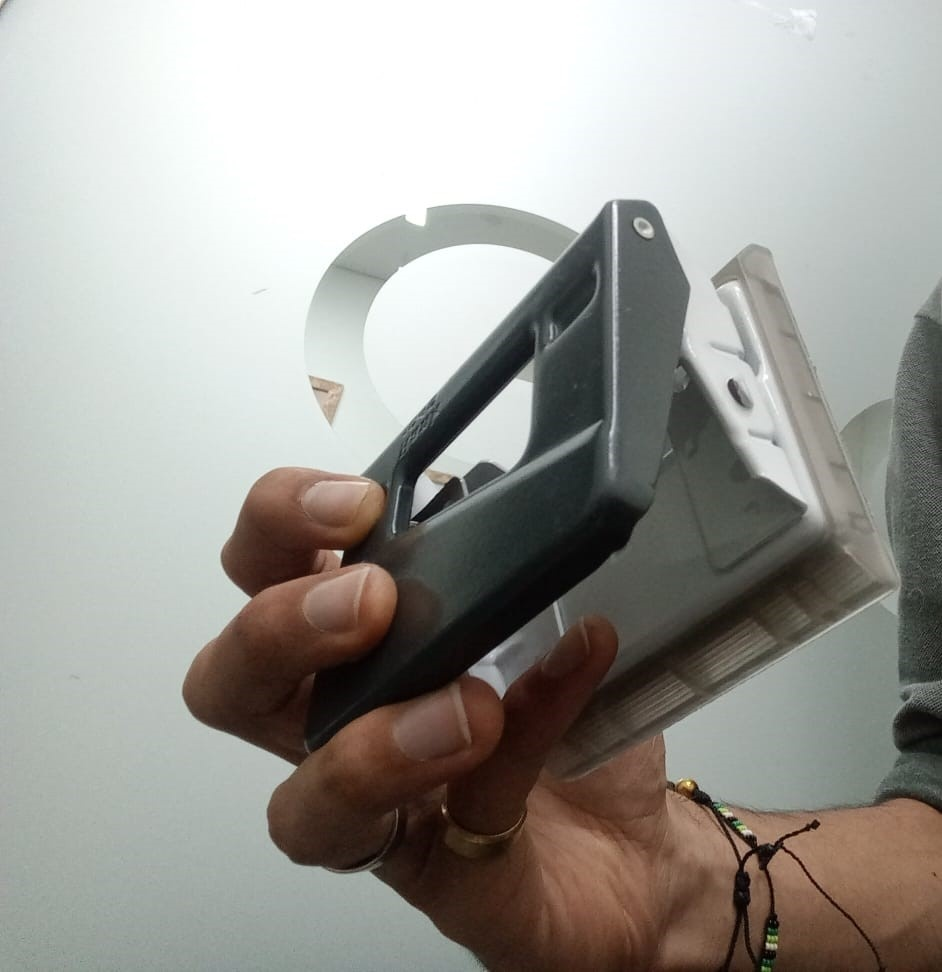Ordinario: (296, 195, 902, 785)
